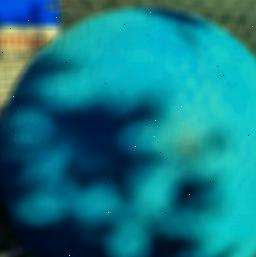algae: (0, 8, 256, 257)
